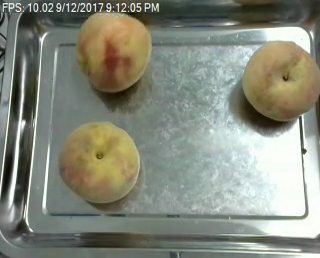Peach: (59, 120, 140, 204), (241, 39, 319, 121), (76, 9, 151, 94)
